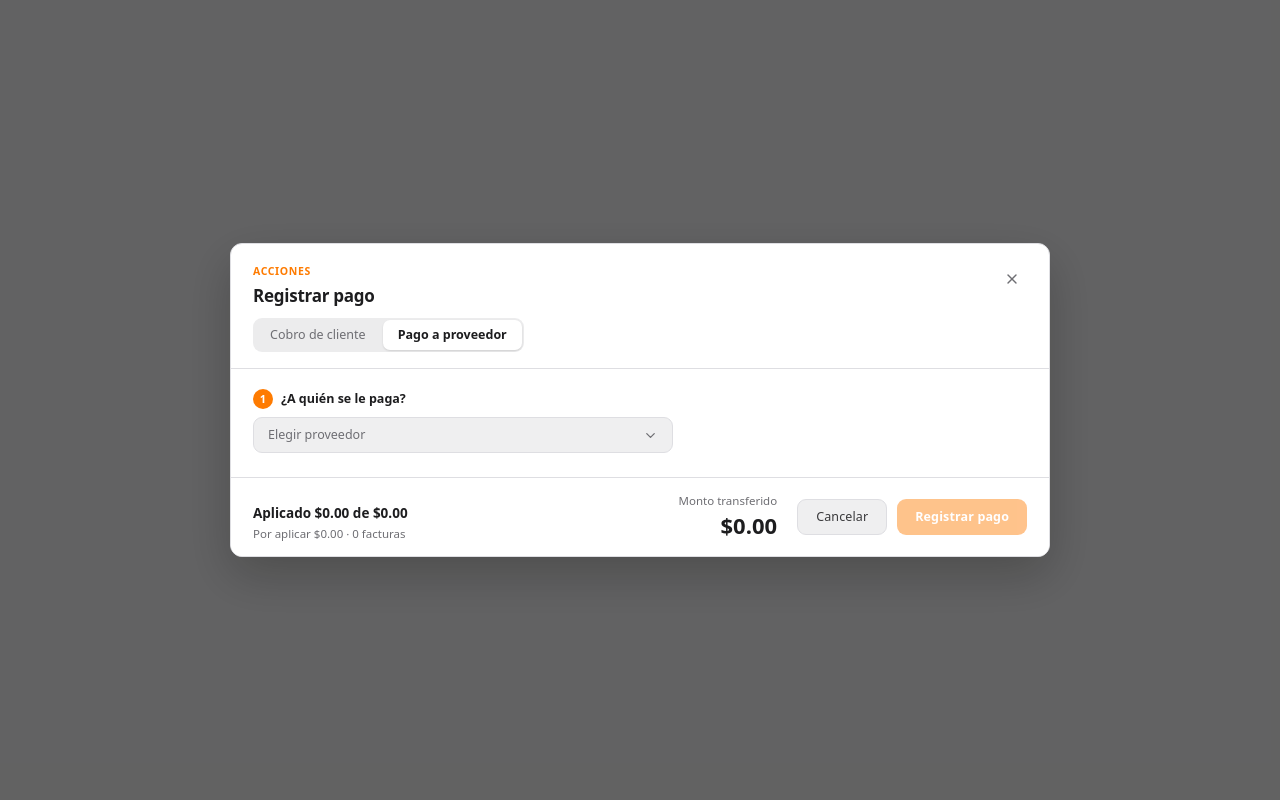
Test: Registrar pago · pasos, reparto legible y pulido (#131) › tres pasos con el nombre de quién se paga; el pie dice «Cuadra» cuando lo aplicado es igual al monto
Expected: the element "¿A quién se le paga?" is shown, [253,389,673,453]
Click the button "Elegir proveedor".
click(317, 434)  # box [253,417,673,453]
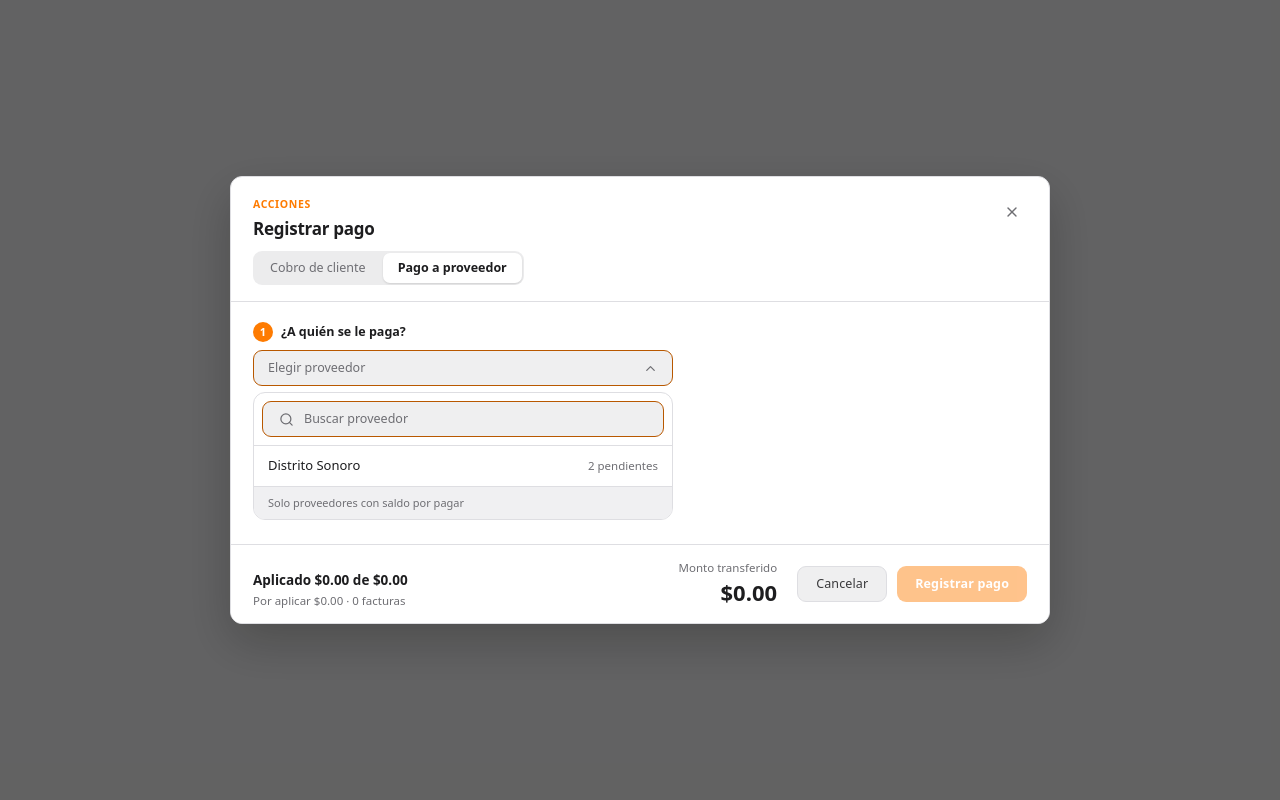
Click the option "Distrito Sonoro 2 pendientes".
click(314, 465)  # box [254,446,672,486]
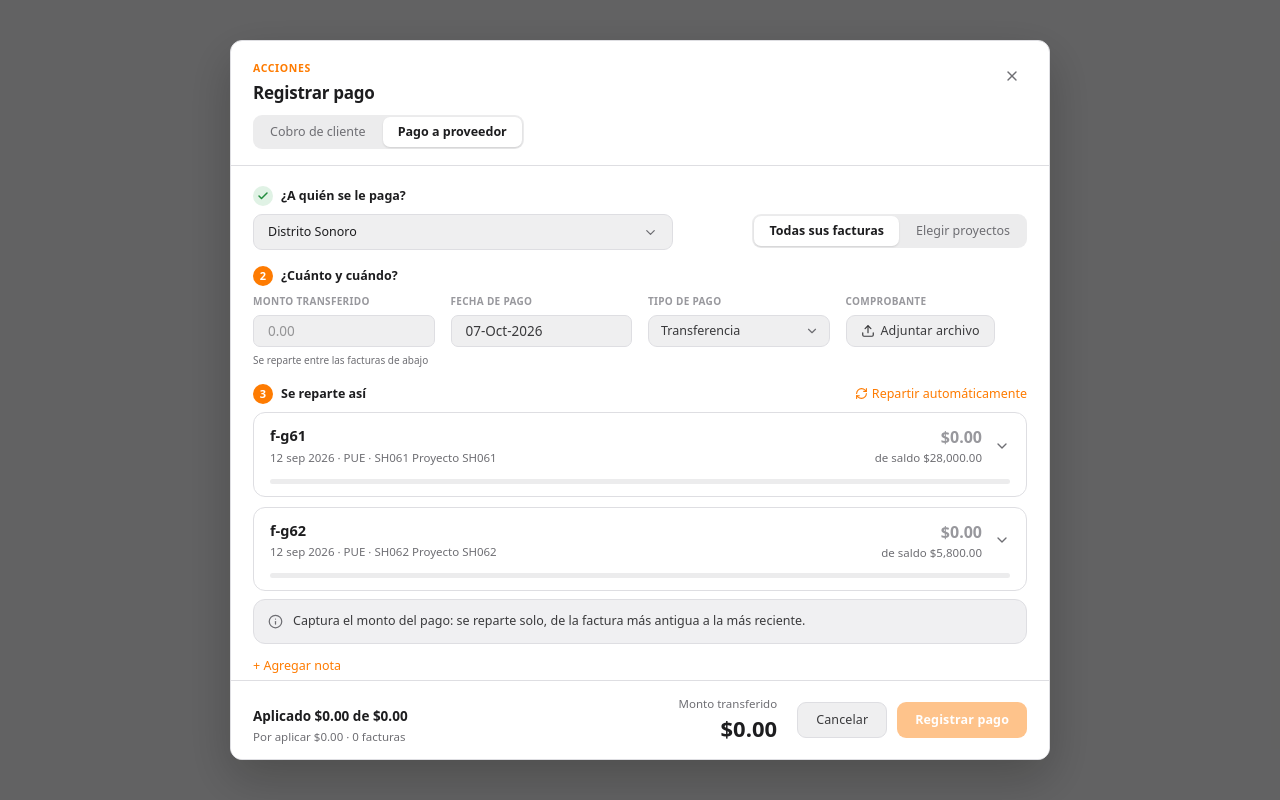
Now the field labelled "Monto transferido Se reparte entre las facturas de abajo" is shown
Now the element "¿Cuánto y cuándo?" is shown, box [253,266,1027,368]
Now the element "Se reparte así" is shown, box [253,384,1027,676]
Type "33800" into the field labelled "Monto transferido Se reparte entre las facturas de abajo".
click(344, 331); type("33800")  # box [253,315,434,347]
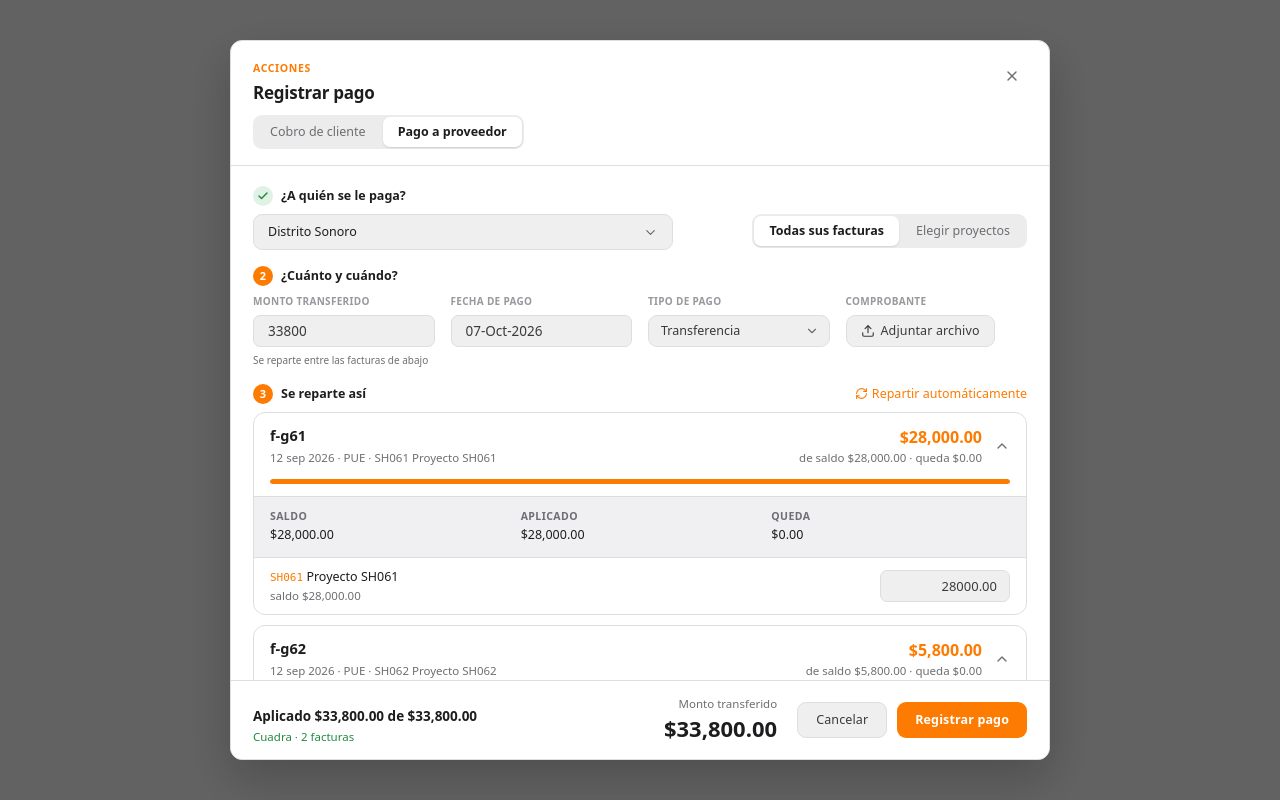
Now the text "Cuadra · 2 facturas" is shown, box [253,729,354,744]
